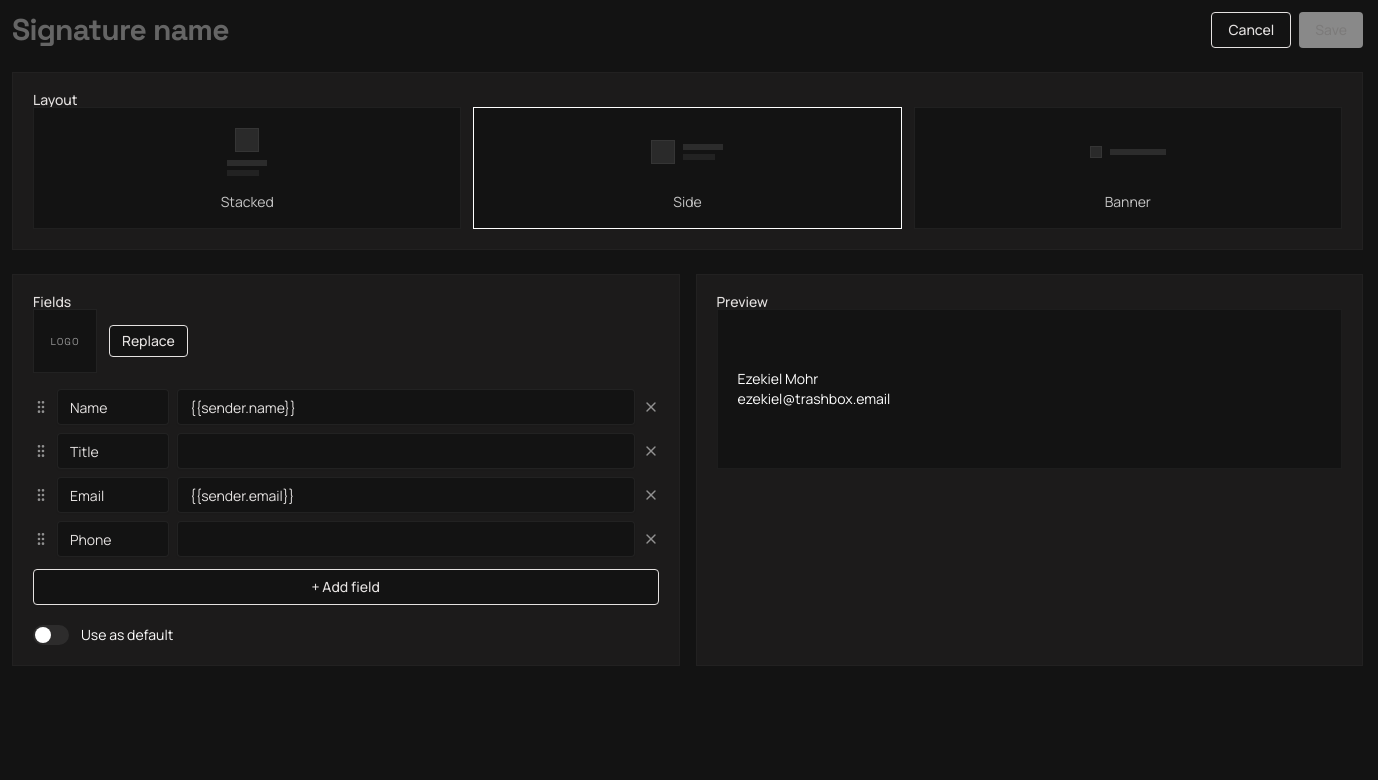
Test: SignatureBuilder › adds a merge field and shows its resolved value
The image size is (1378, 780).
Click the button "+ Add field" at (346, 587), box [33,569,658,605]
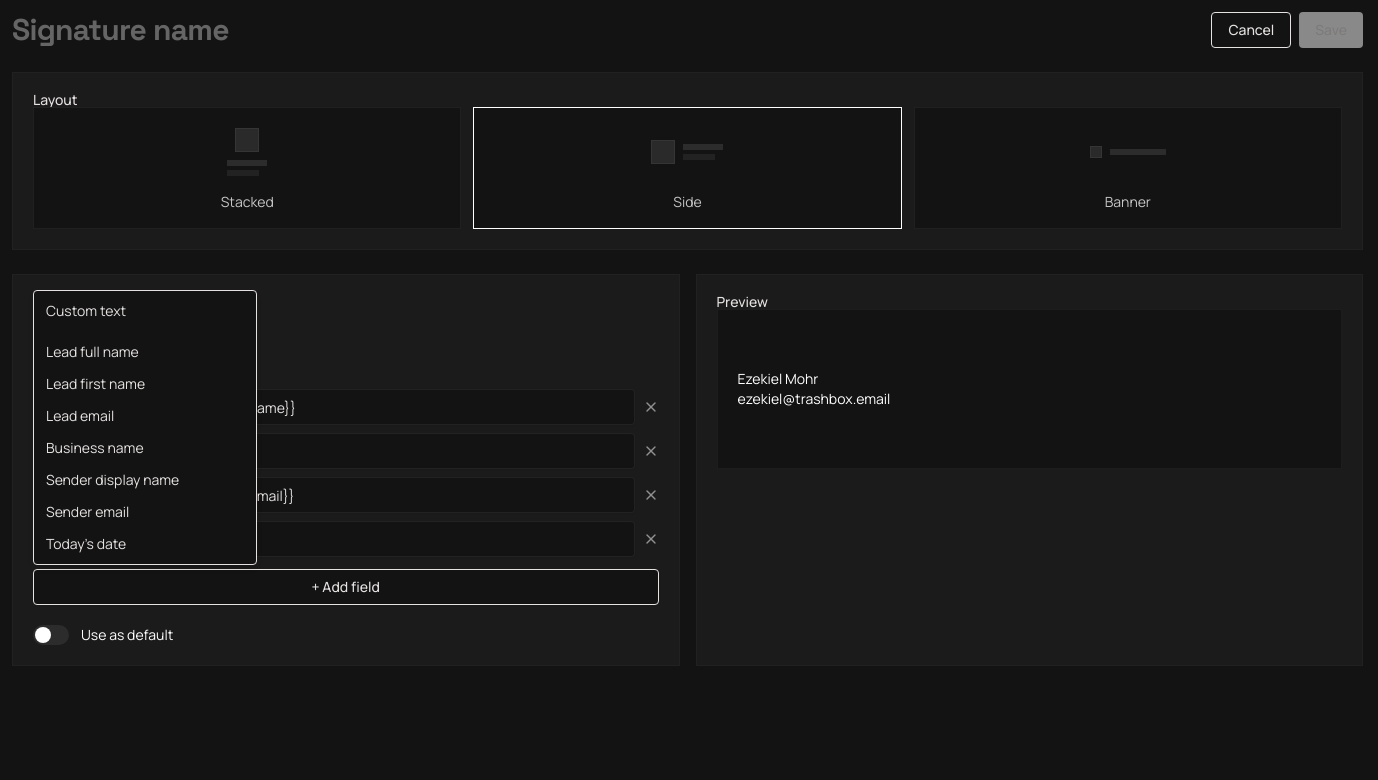
Click the menu item "Business name" at (95, 448), box [46,438,144,457]
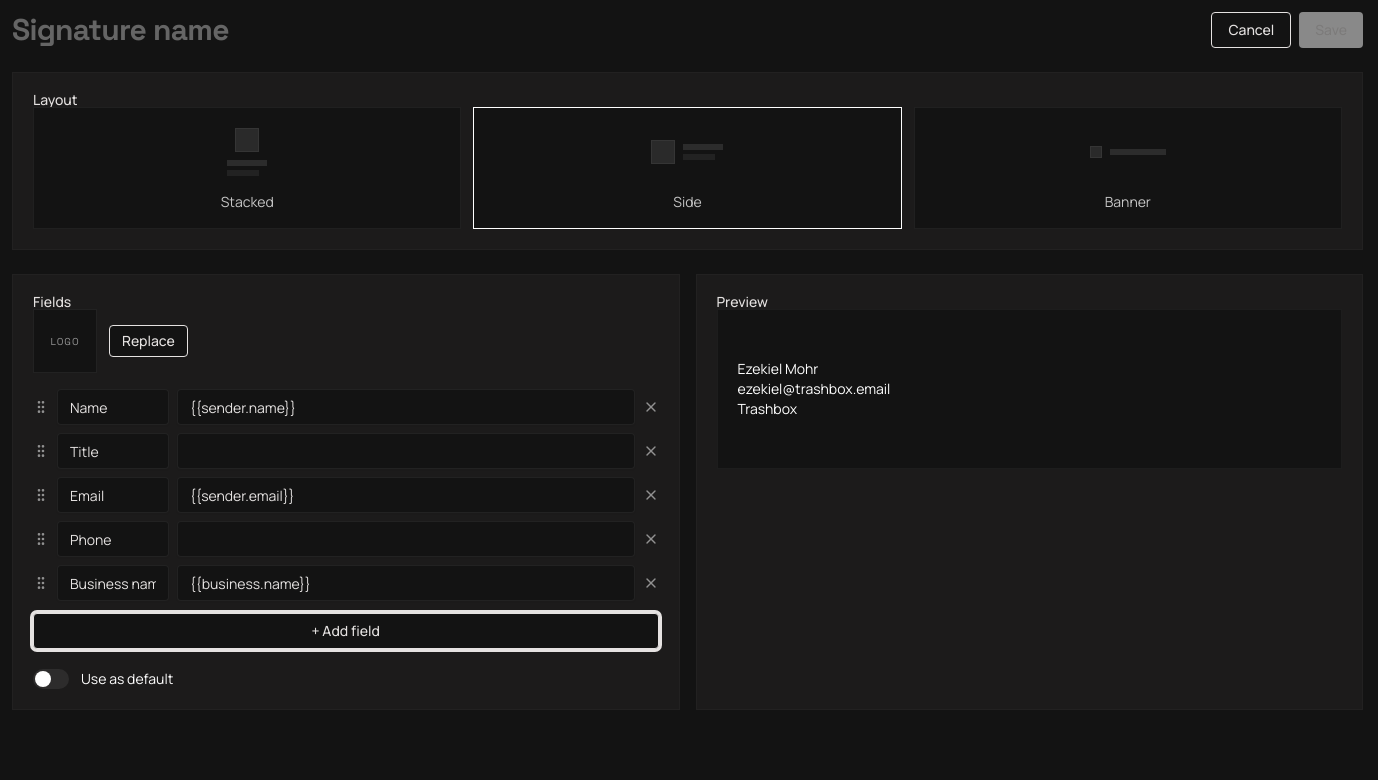
Expected: the element named "preview" shows "trashbox", [738,399,797,418]
Expected: the field named "business name value" holds "{{business.name}}", [177,565,634,601]
